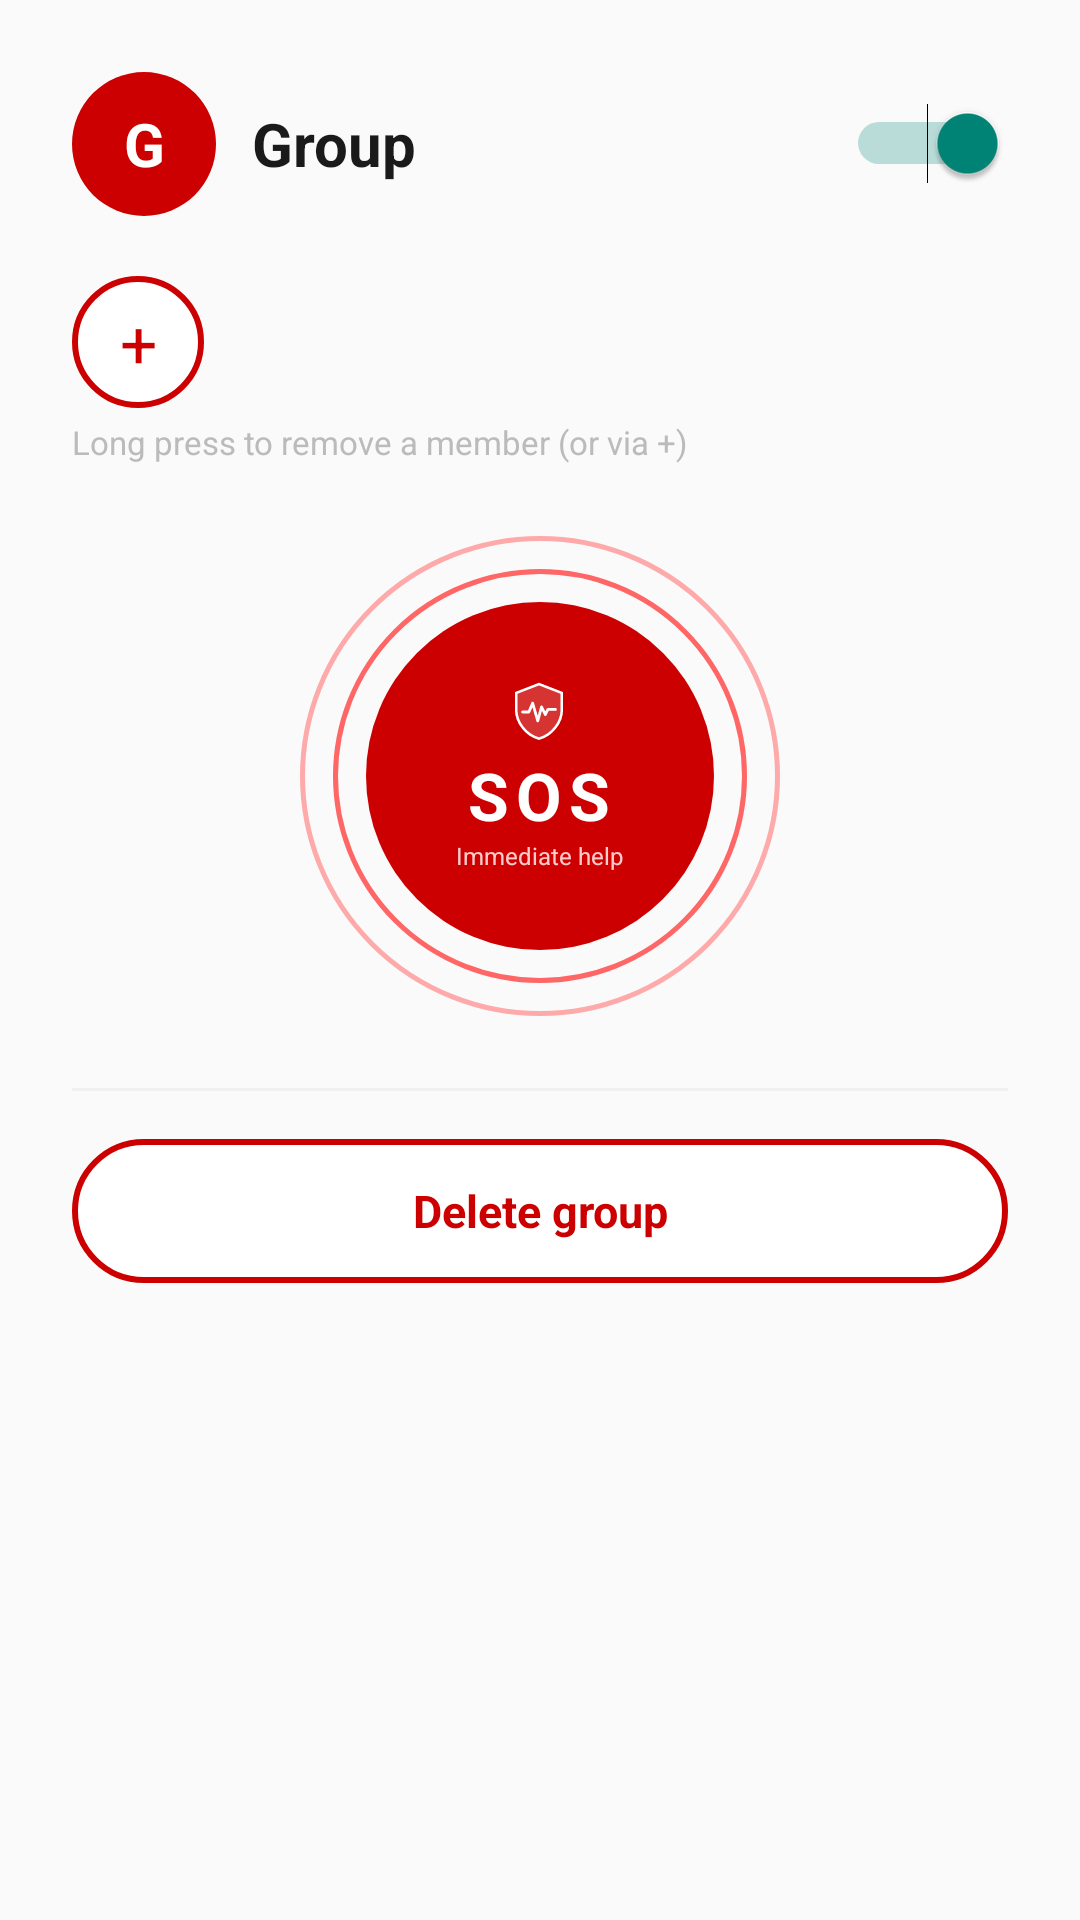

Screen size 1080 × 1920. Icon name, then its center in pixels as (x,y):
shield heartbeat: (539,711)
